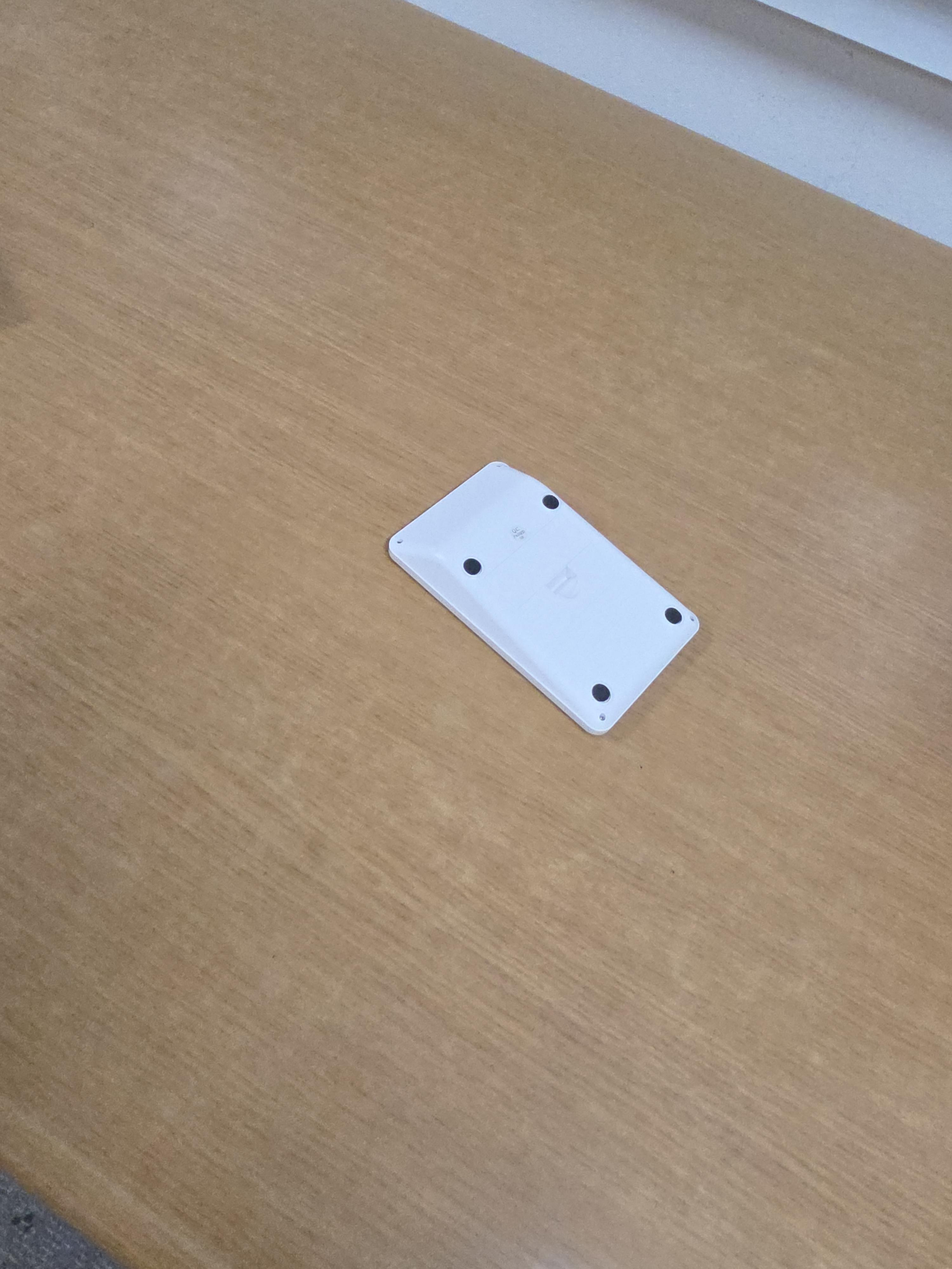calculator: (387, 461, 700, 735)
